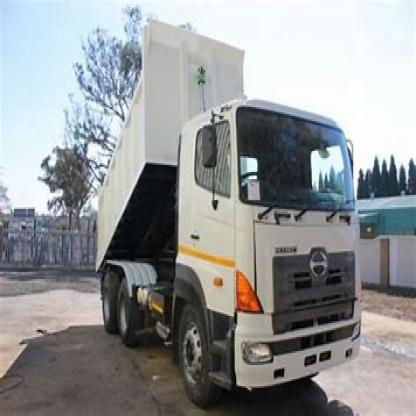dump_truck: (74, 19, 385, 402)
